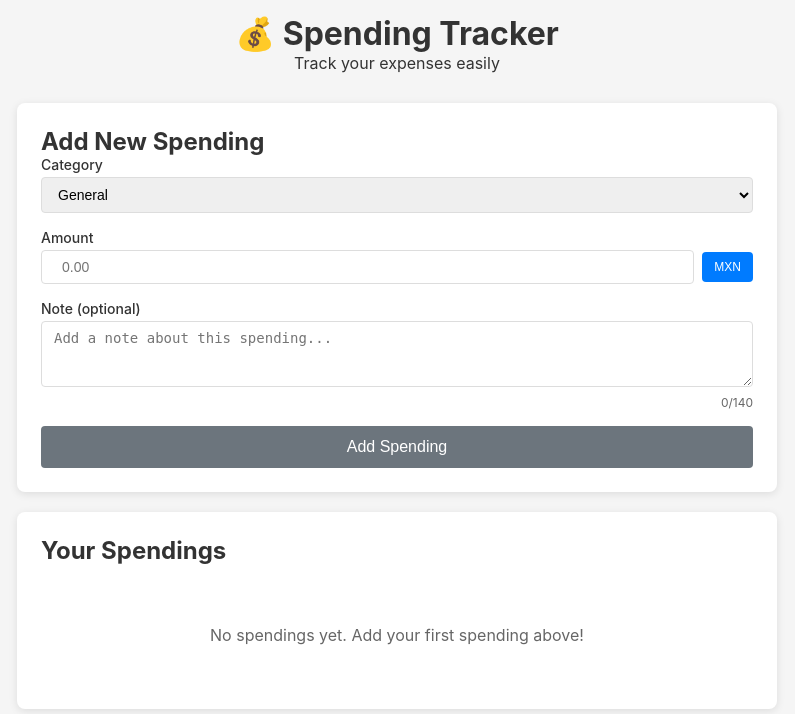
Test: Spending Tracker App › Form Interactions › allows currency toggle
What coordinates should you click on to do the following:
click the button with test id "currency-toggle"
I would click on:
 (728, 267)
Its box is [702, 252, 753, 282].
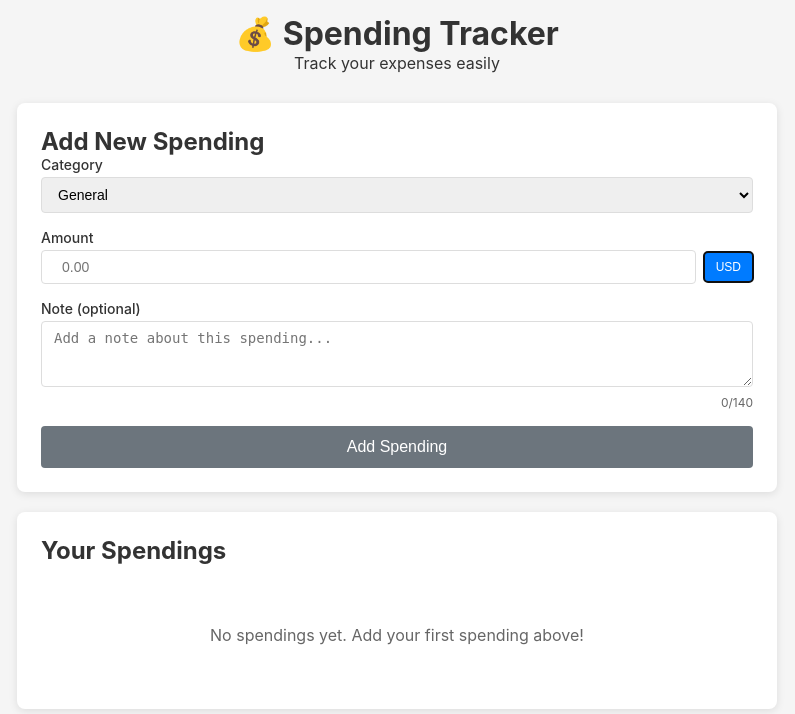
Check: the button with test id "currency-toggle" reads "USD"
What coordinates should you click on to do the following:
click the button with test id "currency-toggle"
I would click on:
 (728, 267)
Its box is [704, 252, 753, 282].
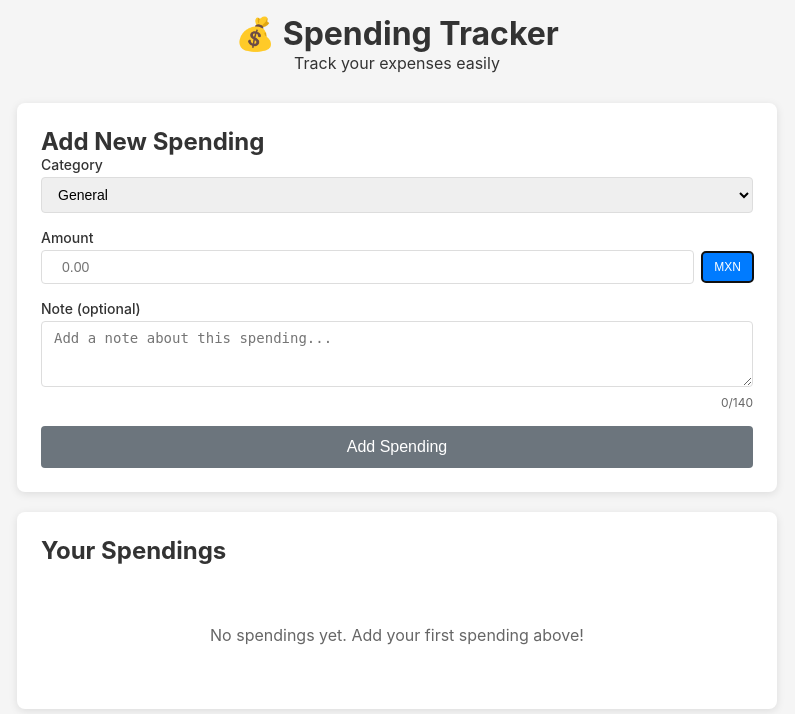
Check: the button with test id "currency-toggle" reads "MXN", box [702, 252, 753, 282]
